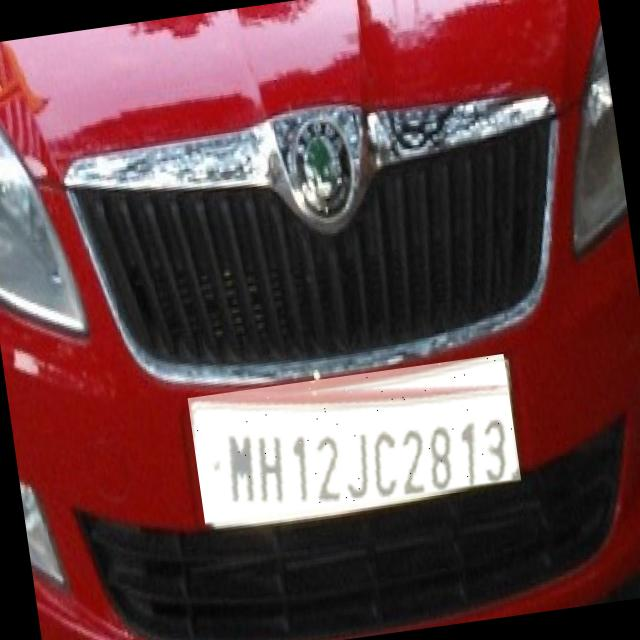Plate: (189, 356, 523, 529)
